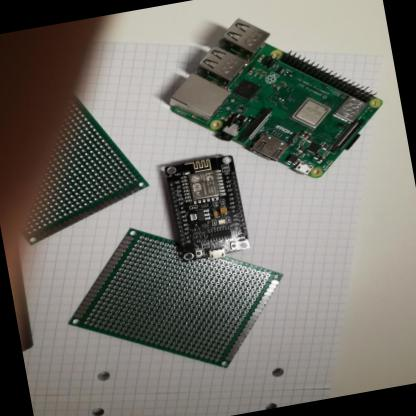ESP8266: (157, 153, 257, 269)
Raspberry_Pi_3: (152, 1, 398, 205)
